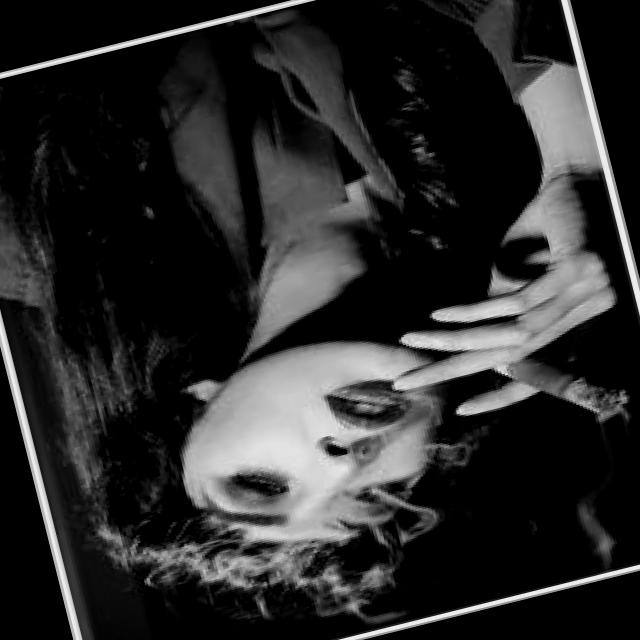cigarette: (480, 329, 638, 450)
